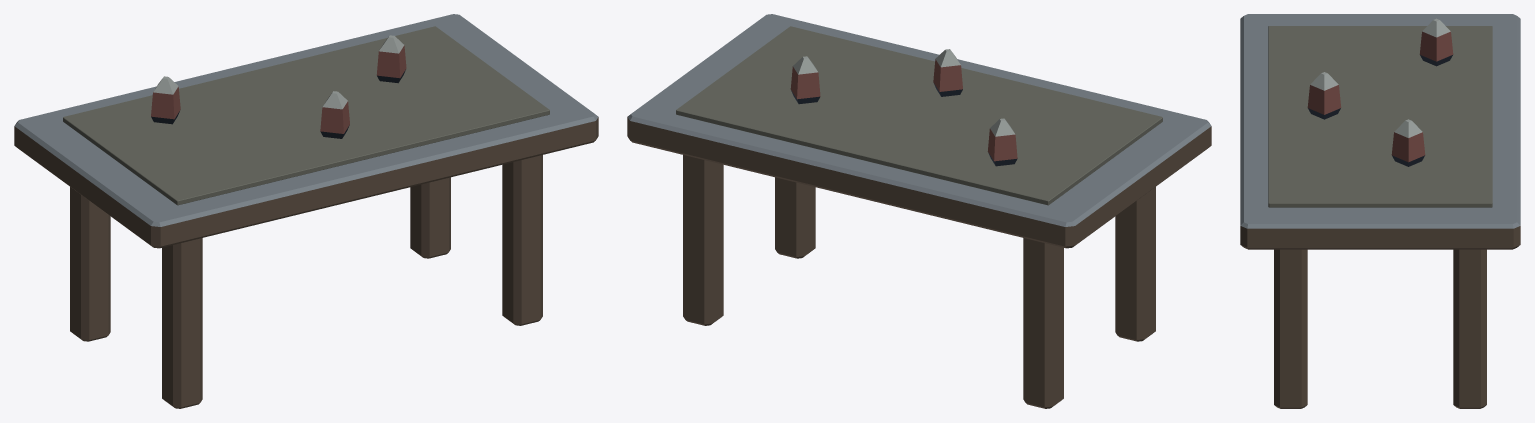
Rendered from war-table.glb.
3 renders of one model, left to right at view 1: azimuth 30°, elevation 25°; view 2: azimuth 150°, elevation 25°; view 3: azimuth 270°, elevation 25°, orthographic. The views are drawn at different scales.
Visible parts, largest first — view 1: war-table__body; view 2: war-table__body; view 3: war-table__body.
Boxes of the visible parts, left/top/right/bottom form: war-table__body: left=14, top=14, right=598, bottom=408; war-table__body: left=627, top=14, right=1211, bottom=408; war-table__body: left=1240, top=14, right=1520, bottom=408.
Bounding box in the file's own units: 1.8 × 0.98 × 1.
